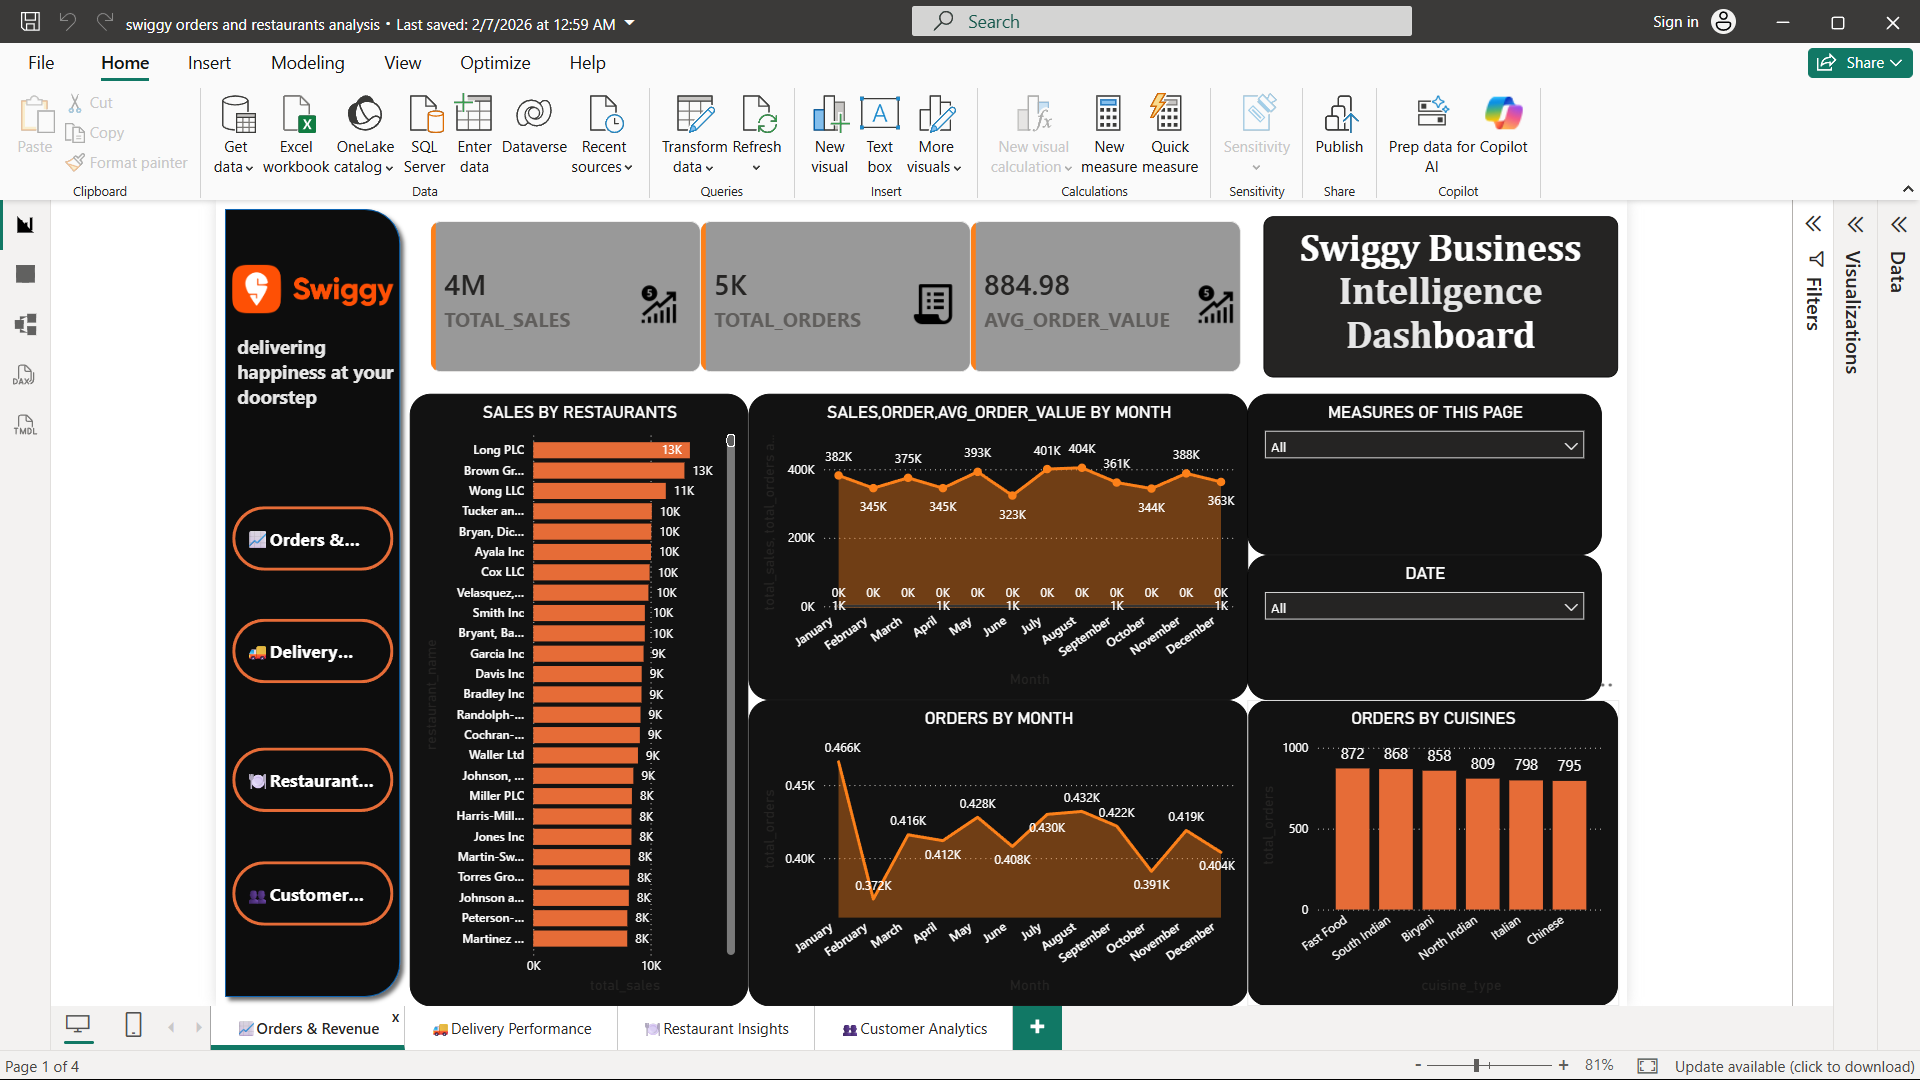

The dashboard page shown, as its layout file describes it:
{"tool":"powerbi","page":{"name":"📈Orders & Revenue","canvas":[1400,800],"ordinal":0},"visuals":[{"type":"shape","box":[0,0,192,800],"z":0},{"type":"image","box":[16,48,160,80],"z":1000},{"type":"textbox","box":[16,128,176,96],"z":2000},{"type":"cardVisual","fields":{"Data":["Table.total_sales","Table.total_orders","Table.average_order_value"]},"box":[192,0,848,192],"z":3000},{"type":"image","box":[400,80,80,48],"z":4000},{"type":"image","box":[960,80,64,48],"z":5000},{"type":"image","box":[672,80,80,48],"z":6000},{"type":"lineChart","title":"SALES,ORDER,AVG_ORDER_VALUE BY MONTH","fields":{"Y":["Table.total_sales","Table.total_orders","Table.average_order_value"],"Category":["orders.order_date.Variation.Date Hierarchy.Month"]},"box":[528,192,496,304],"z":7000},{"type":"areaChart","title":"ORDERS BY MONTH","fields":{"Category":["orders.order_date.Variation.Date Hierarchy.Month","orders.order_date.Variation.Date Hierarchy.Day"],"Y":["Table.total_orders"]},"box":[528,496,496,304],"z":8000},{"type":"clusteredBarChart","title":"SALES BY RESTAURANTS","fields":{"Category":["restaurants.restaurant_name"],"Y":["Table.total_sales"]},"box":[192,192,336,608],"z":9000},{"type":"columnChart","title":"ORDERS BY CUISINES","fields":{"Category":["restaurants.cuisine_type"],"Y":["Table.total_orders"]},"box":[1024,496,368,304],"z":10000},{"type":"textbox","box":[1040,16,352,160],"z":11000},{"type":"actionButton","box":[16,304,160,64],"z":12000},{"type":"actionButton","box":[16,416,160,64],"z":13000},{"type":"actionButton","box":[16,544,160,64],"z":14000},{"type":"slicer","title":"MEASURES OF THIS PAGE","fields":{"Values":["Parameter.Parameter"]},"box":[1024,192,352,160],"z":15000},{"type":"slicer","title":"DATE","fields":{"Values":["orders.order_date"]},"box":[1024,352,352,144],"z":16000},{"type":"actionButton","box":[16,656,160,64],"z":16001}]}

Visuals, with their boxes on the page's 1400x800 design canvas (x1, y1, x2, y2). These are canvas units, not pixel positions in the 1920x1080 screenshot, which may show the page scaled, cropped or inside an application window:
shape: box(0, 0, 192, 800)
image: box(16, 48, 176, 128)
textbox: box(16, 128, 192, 224)
cardVisual - Table.total_sales x Table.total_orders: box(192, 0, 1040, 192)
image: box(400, 80, 480, 128)
image: box(960, 80, 1024, 128)
image: box(672, 80, 752, 128)
"SALES,ORDER,AVG_ORDER_VALUE BY MONTH" lineChart: box(528, 192, 1024, 496)
"ORDERS BY MONTH" areaChart: box(528, 496, 1024, 800)
"SALES BY RESTAURANTS" clusteredBarChart: box(192, 192, 528, 800)
"ORDERS BY CUISINES" columnChart: box(1024, 496, 1392, 800)
textbox: box(1040, 16, 1392, 176)
actionButton: box(16, 304, 176, 368)
actionButton: box(16, 416, 176, 480)
actionButton: box(16, 544, 176, 608)
"MEASURES OF THIS PAGE" slicer: box(1024, 192, 1376, 352)
"DATE" slicer: box(1024, 352, 1376, 496)
actionButton: box(16, 656, 176, 720)
